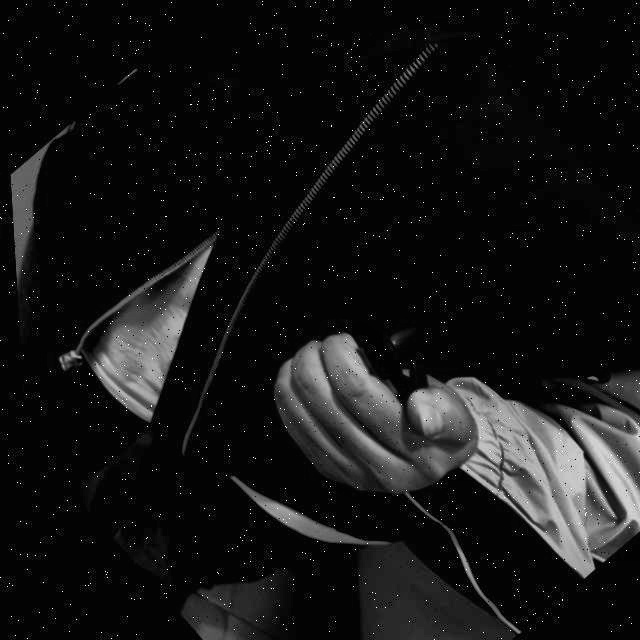Fire: (381, 306, 426, 349)
